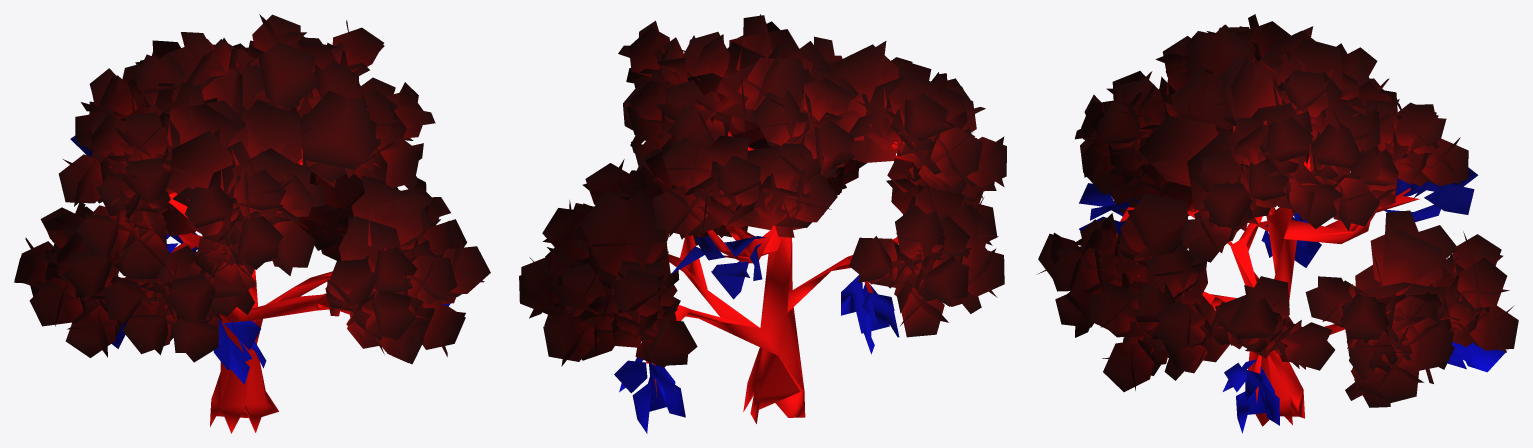
File: SM_Tree_Generic_Giant_01_LOD01.fbx
3 views of the same model, side by side, from view 1: azimuth 30°, elevation 25°; view 2: azimuth 150°, elevation 25°; view 3: azimuth 270°, elevation 25° (orthographic). The views are drawn at different scales.
Parts seen in each view (by area): view 1: SM_Tree_Generic_Giant_01_LOD01; view 2: SM_Tree_Generic_Giant_01_LOD01; view 3: SM_Tree_Generic_Giant_01_LOD01.
Part boxes in pixels (box(x1,y1,x2,y2)): SM_Tree_Generic_Giant_01_LOD01: box(14, 14, 490, 433); SM_Tree_Generic_Giant_01_LOD01: box(519, 14, 1006, 433); SM_Tree_Generic_Giant_01_LOD01: box(1036, 14, 1518, 433).
Size of the model in its own units: 1248 by 1108 by 1306.
